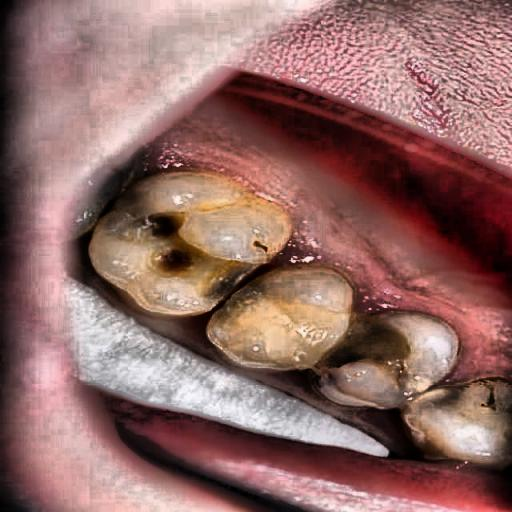Caries: (125, 184, 432, 385)
